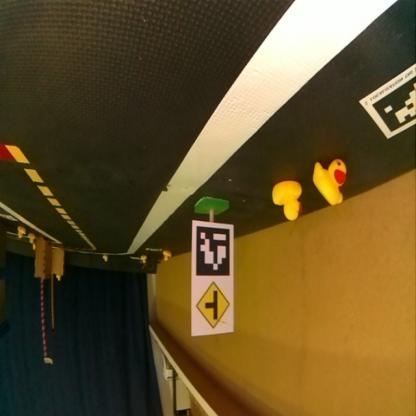Duckie: (315, 160, 345, 206), (272, 182, 302, 220), (17, 226, 25, 238), (163, 252, 169, 260), (55, 274, 61, 282), (140, 257, 146, 264), (102, 255, 108, 262), (29, 235, 32, 243)
Intersection sign: (195, 284, 229, 330)
QR code: (363, 70, 415, 140), (193, 226, 230, 279)
